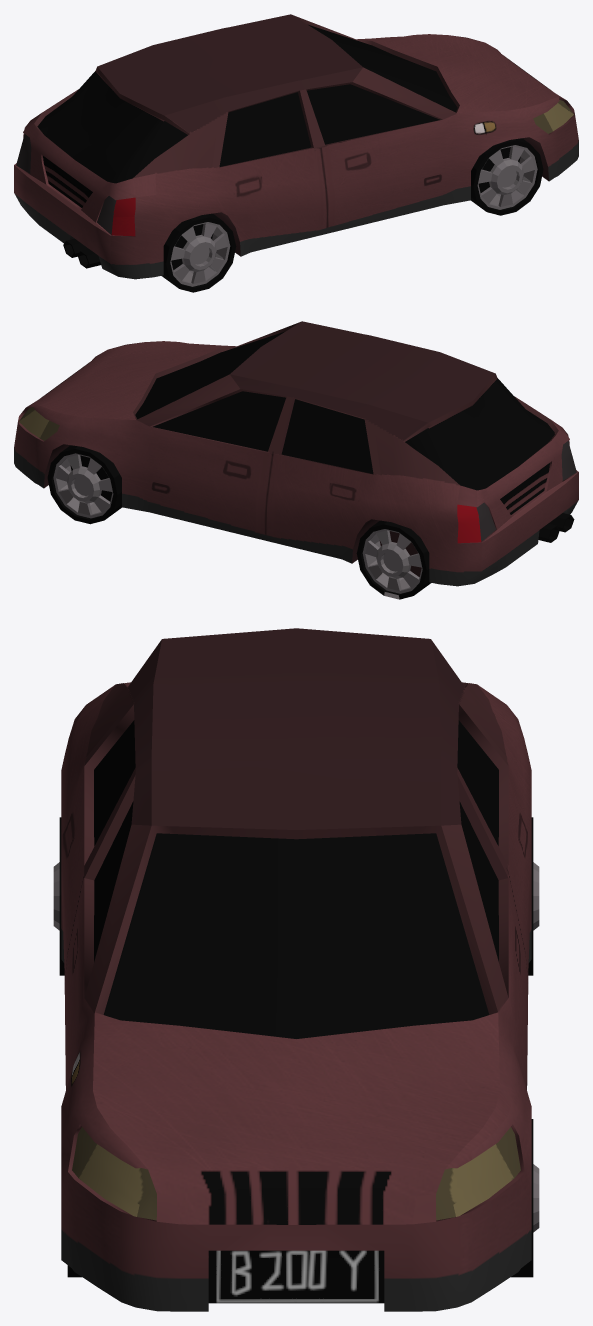
The model's file is P_CAR HATCHBACK.fbx.
The picture shows the model from 3 angles, top to bottom: view 1: azimuth 30°, elevation 25°; view 2: azimuth 150°, elevation 25°; view 3: azimuth 270°, elevation 25°; orthographic projection. The views are drawn at different scales.
Parts seen in each view (by area): view 1: Car_Hatchback; view 2: Car_Hatchback; view 3: Car_Hatchback.
Boxes of the visible parts, box(x1,y1,x2,y2) form: Car_Hatchback: box(14, 14, 578, 292); Car_Hatchback: box(14, 321, 578, 599); Car_Hatchback: box(53, 628, 539, 1311).
Bounding box in the file's own units: 569 × 183 × 245.
